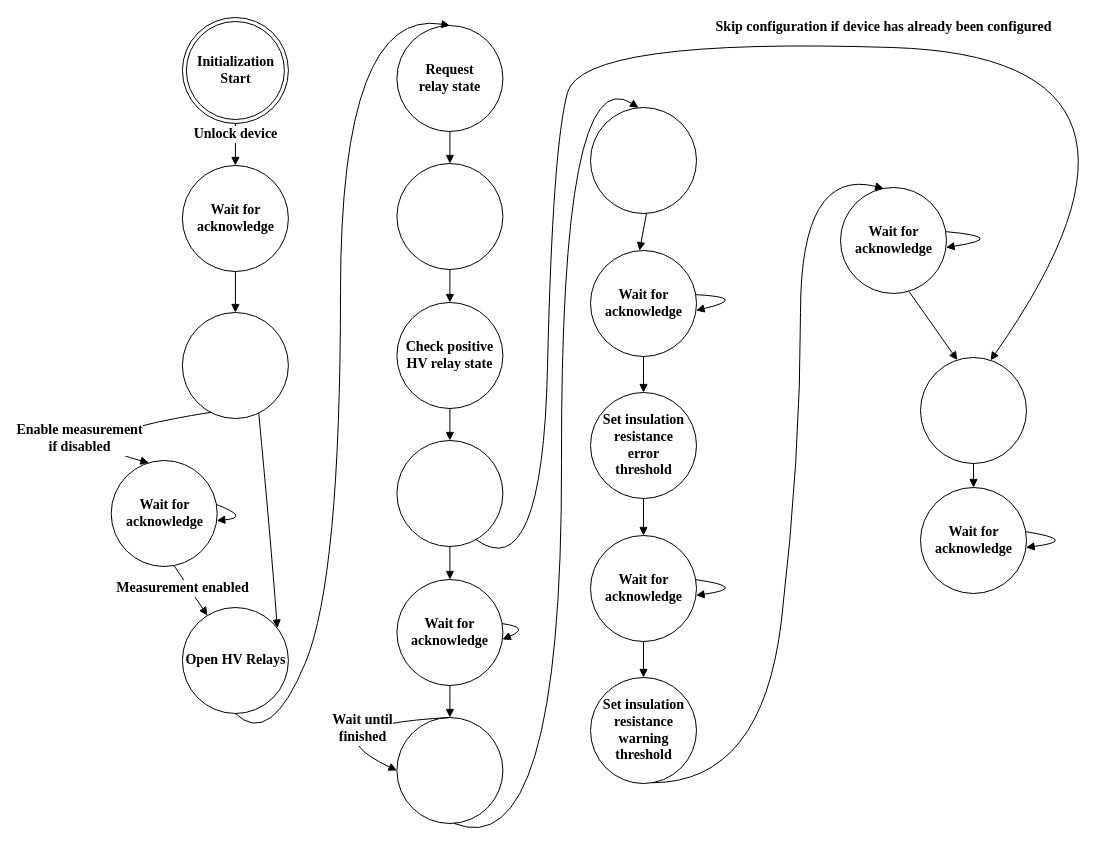
This 1097x846 diagram has some shape labels left out. The shapes that lost their labels are listed below. From the top down, each one's centre as x and y in pixels, then its label:
the point at 643,160: Set measurement averaging factor
the point at 449,216: Check negative HV relay state
the point at 234,365: Check insulation measurement state
the point at 973,410: Disable insulation measurement
the point at 449,493: Start self-test
the point at 449,770: Wait until self-test is finished
